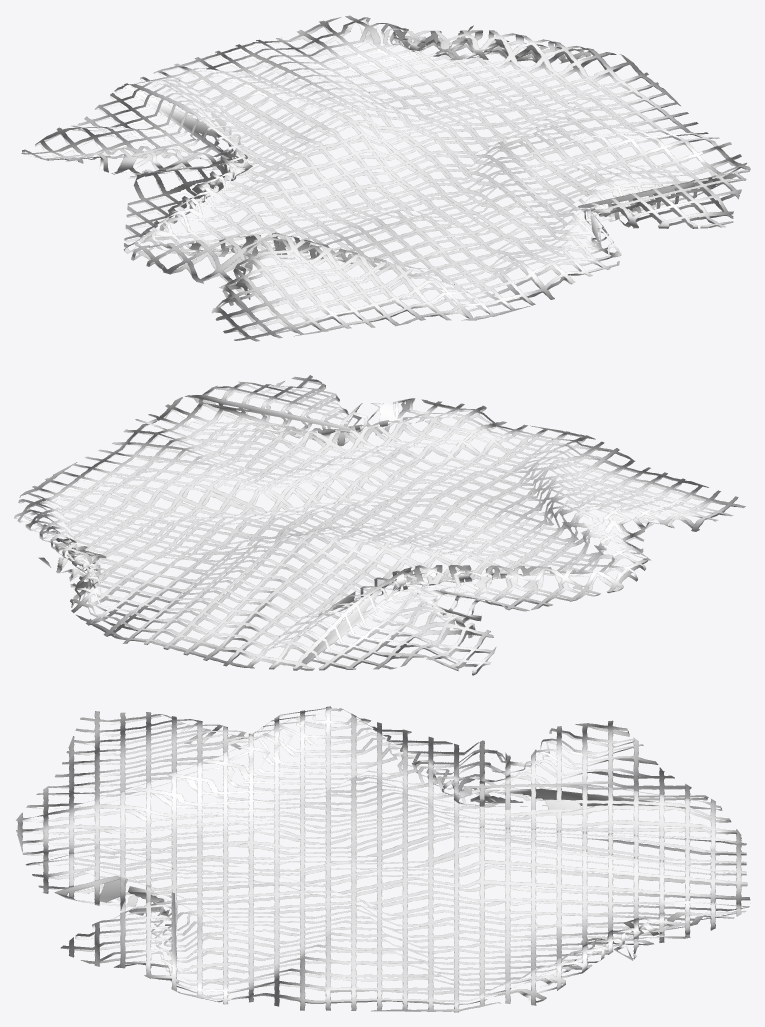
3 renders of one model, top to bottom at view 1: azimuth 30°, elevation 25°; view 2: azimuth 150°, elevation 25°; view 3: azimuth 270°, elevation 25°, orthographic. The views are drawn at different scales.
Parts seen in each view (by area): view 1: BasicNet.Light.001; view 2: BasicNet.Light.001; view 3: BasicNet.Light.001.
Part boxes in pixels (x1=…): BasicNet.Light.001: x1=21, y1=15, x2=750, y2=341; BasicNet.Light.001: x1=14, y1=375, x2=745, y2=675; BasicNet.Light.001: x1=16, y1=706, x2=750, y2=1012.
Size of the model in its own units: 386 by 21.57 by 395.
Materials: 1 (1 with a texture image).
